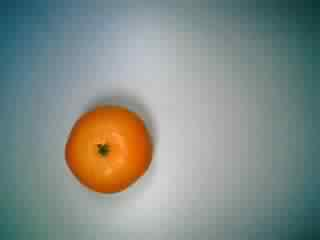orange: (65, 96, 160, 198)
